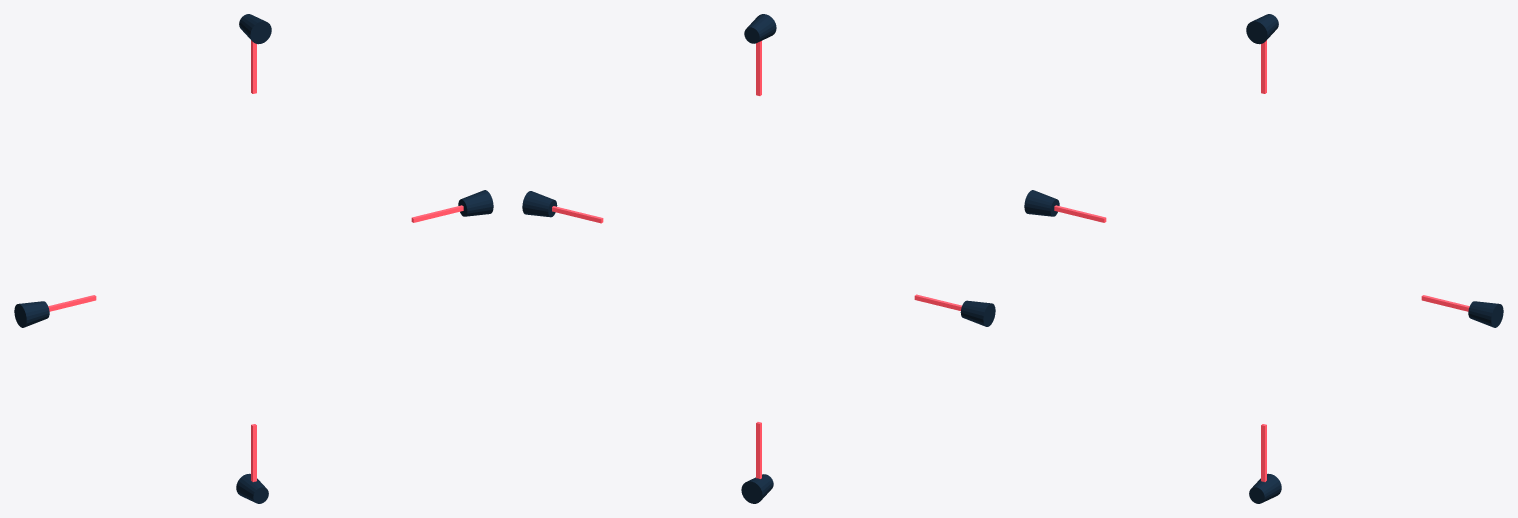
Rendered from hazard-shutter.glb.
The picture shows the model from 3 angles, left to right: view 1: azimuth 30°, elevation 25°; view 2: azimuth 150°, elevation 25°; view 3: azimuth 330°, elevation 25°; orthographic projection.
Parts seen in each view (by area): view 1: dark_static, hazard_static; view 2: dark_static, hazard_static; view 3: dark_static, hazard_static.
Boxes of the visible parts, x1,y1,x2,y2 form: dark_static: (14, 14, 493, 503); hazard_static: (48, 40, 463, 481); dark_static: (522, 14, 995, 503); hazard_static: (552, 41, 961, 478); dark_static: (1024, 14, 1503, 503); hazard_static: (1054, 40, 1469, 481).
Bounding box in the file's own units: 4180 × 4152 × 220.
